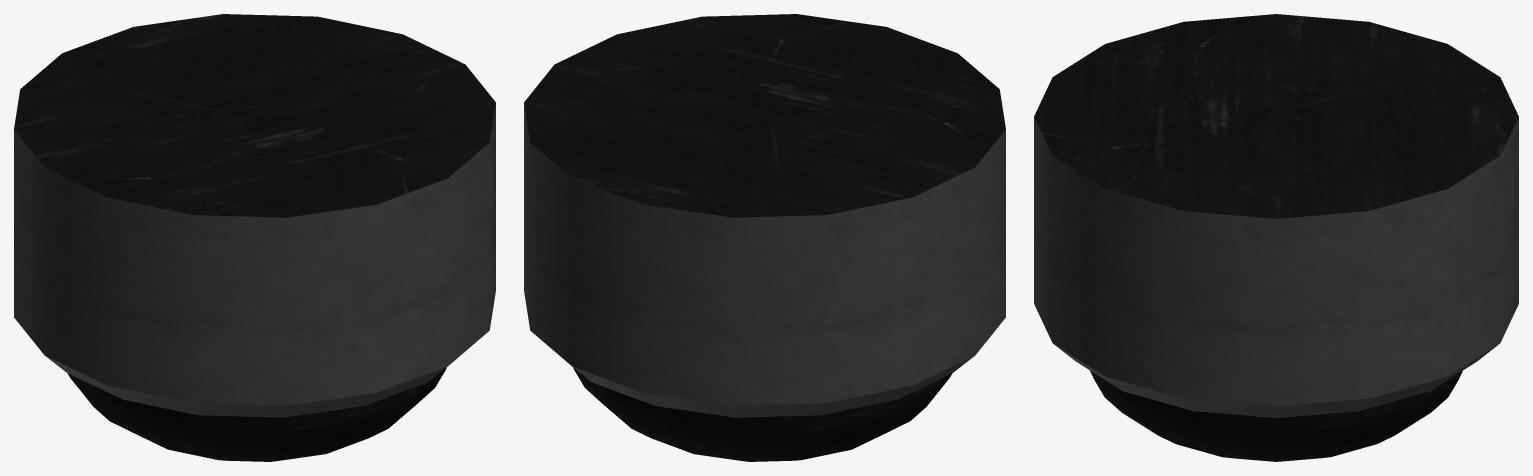
The model's file is CamDevice.fbx.
3 views of the same model, side by side, from view 1: azimuth 30°, elevation 25°; view 2: azimuth 150°, elevation 25°; view 3: azimuth 270°, elevation 25° (orthographic).
Visible parts, largest first — view 1: CamDevice; view 2: CamDevice; view 3: CamDevice.
Boxes of the visible parts, x1,y1,x2,y2 form: CamDevice: (14, 14, 495, 461); CamDevice: (524, 14, 1005, 461); CamDevice: (1034, 14, 1518, 461).
Bounding box in the file's own units: 0.4163 × 0.2995 × 0.4163.
